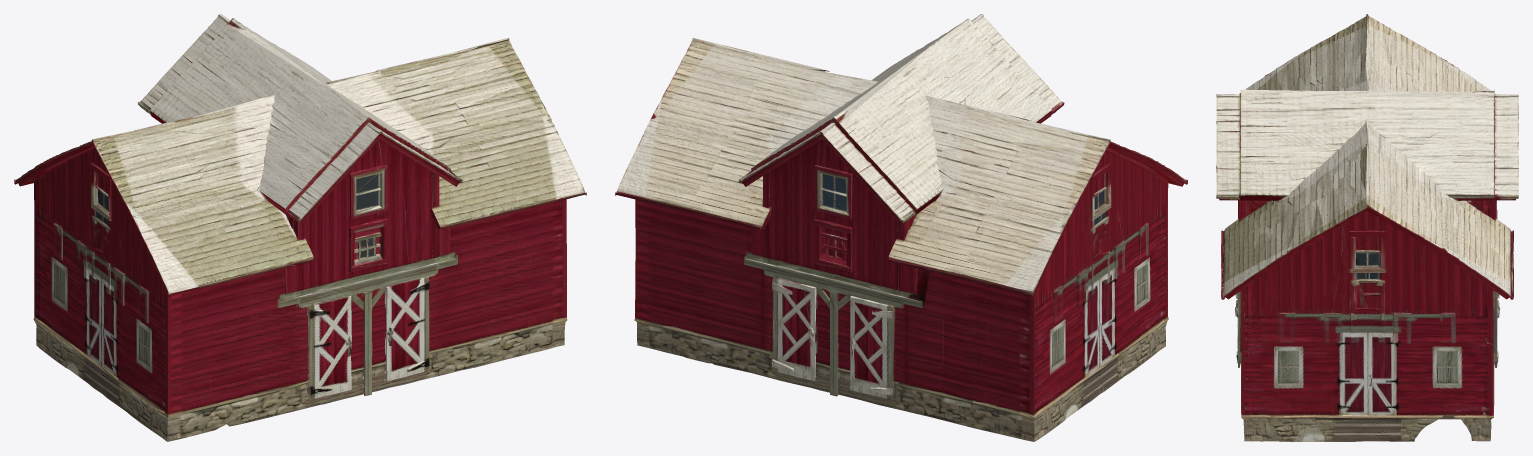
File: country-barn.glb
The picture shows the model from 3 angles, left to right: view 1: azimuth 30°, elevation 25°; view 2: azimuth 150°, elevation 25°; view 3: azimuth 270°, elevation 25°; orthographic projection. The views are drawn at different scales.
Bounding box in the file's own units: 1.9 × 1.21 × 1.27.
Materials: 1 (1 with a texture image).
